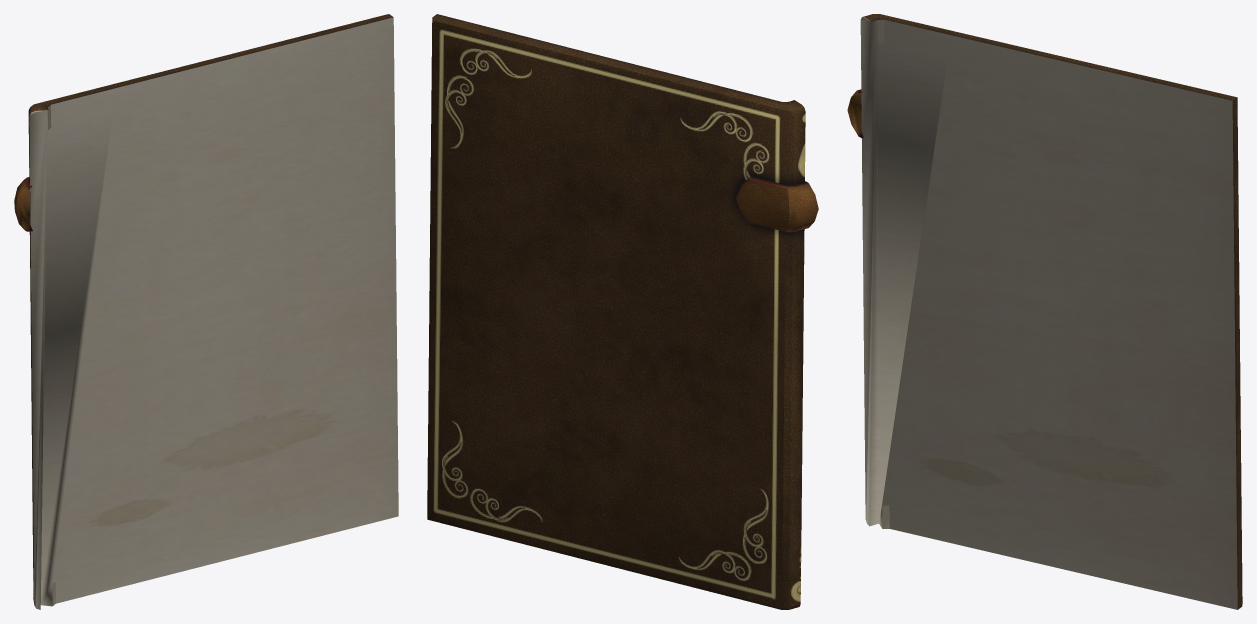
Rendered from hollowbookcover.fbx.
3 views of the same model, side by side, from view 1: azimuth 30°, elevation 25°; view 2: azimuth 150°, elevation 25°; view 3: azimuth 330°, elevation 25° (orthographic).
Visible parts, largest first — view 1: Book.001; view 2: Book.001; view 3: Book.001.
Part boxes in pixels (x1,y1,x2,y2): Book.001: (14,14,398,609); Book.001: (427,14,818,609); Book.001: (847,14,1242,609).
Bounding box in the file's own units: 23.39 × 29.35 × 1.89.
Materials: 1 (1 with a texture image).
